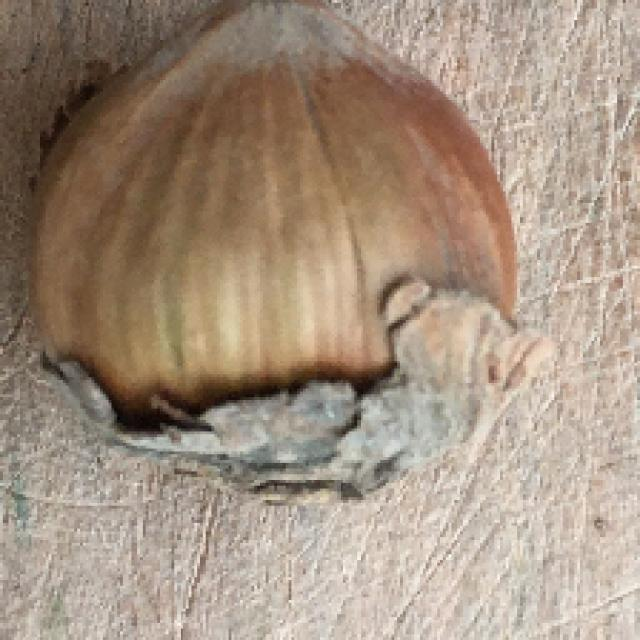DamagedHazelnut: (32, 0, 517, 508)
